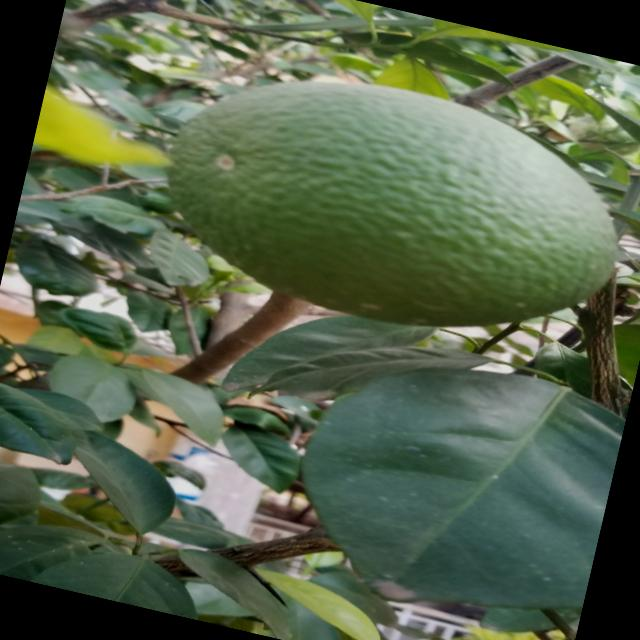Unripe: (121, 28, 640, 375)
